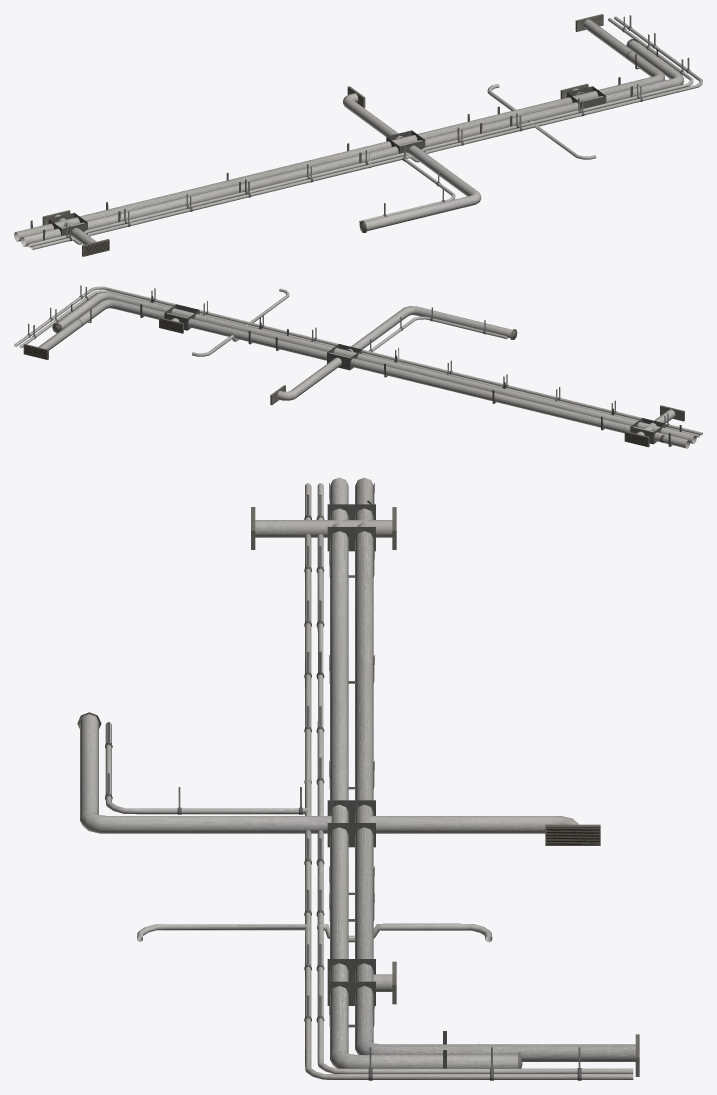
File: Ventilation_pipes.fbx
3 views of the same model, one above another, from view 1: azimuth 30°, elevation 25°; view 2: azimuth 150°, elevation 25°; view 3: azimuth 270°, elevation 25° (orthographic). The views are drawn at different scales.
Visible parts, largest first — view 1: Pipes4, Pipes6, Pipes7, Pipes3, Pipes5, Pipes2, Pipes9, Pipes1; view 2: Pipes6, Pipes4, Pipes3, Pipes7, Pipes5, Pipes2, Pipes1, Pipes9, Pipes8; view 3: Pipes7, Pipes6, Pipes5, Pipes4, Pipes3, Pipes1, Pipes9, Pipes2.
Boxes of the visible parts, x1,y1,x2,y2 form: Pipes4: (226,138,461,197); Pipes6: (402,84,596,159); Pipes7: (567,45,702,116); Pipes3: (73,180,248,229); Pipes5: (359,145,481,232); Pipes2: (14,210,128,256); Pipes9: (575,14,658,69); Pipes1: (48,86,425,235); Pipes6: (178,288,346,360); Pipes4: (313,338,508,403); Pipes3: (494,385,642,433); Pipes7: (51,285,208,330); Pipes5: (346,306,517,351); Pipes2: (614,405,702,448); Pipes1: (270,344,665,444); Pipes9: (14,304,91,359); Pipes8: (159,317,183,333); Pipes7: (304,944,489,1080); Pipes6: (137,816,492,981); Pipes5: (77,712,331,833); Pipes4: (303,651,374,860); Pipes3: (304,531,374,673); Pipes1: (327,504,600,847); Pipes9: (443,1031,639,1080); Pipes2: (251,477,396,567).
Size of the model in its own units: 2242 by 69.38 by 899.
